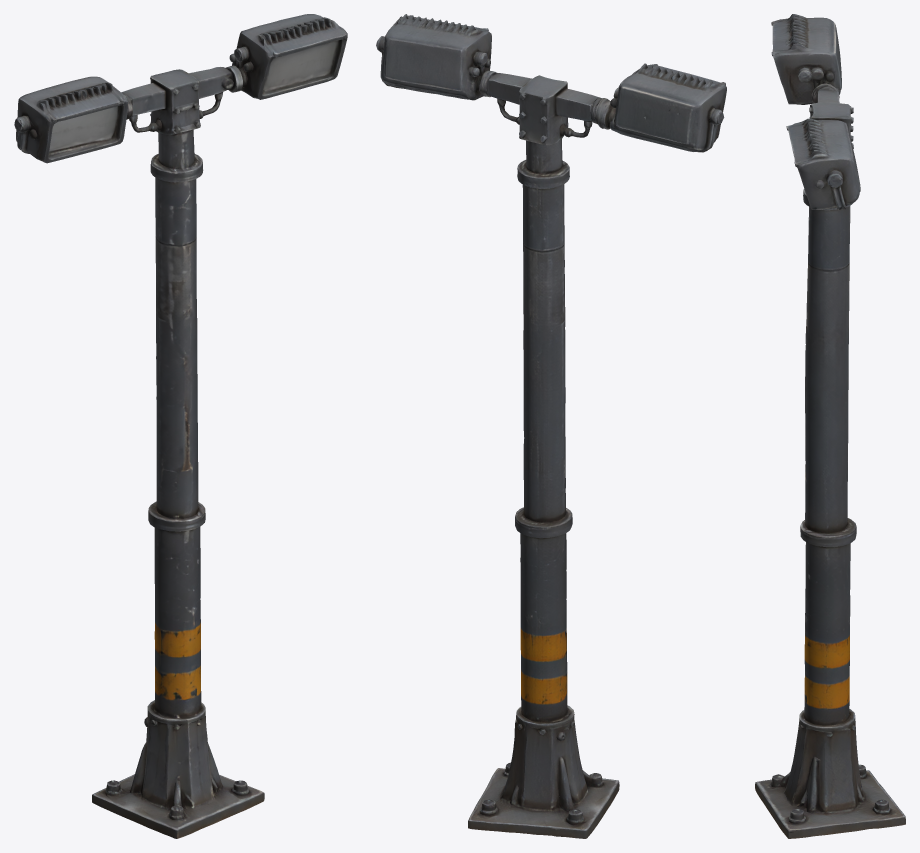
File: ENV-LIGHTKIT-POLE.glb
3 renders of one model, left to right at view 1: azimuth 30°, elevation 25°; view 2: azimuth 150°, elevation 25°; view 3: azimuth 270°, elevation 25°, orthographic. The views are drawn at different scales.
Visible parts, largest first — view 1: Mesh; view 2: Mesh; view 3: Mesh.
Boxes of the visible parts, <box> form: Mesh: <box>14,14,347,838</box>; Mesh: <box>376,14,726,838</box>; Mesh: <box>755,14,905,838</box>.
Size of the model in its own units: 0.8679 by 1.9 by 0.3563.
1 material, 1 textured.
